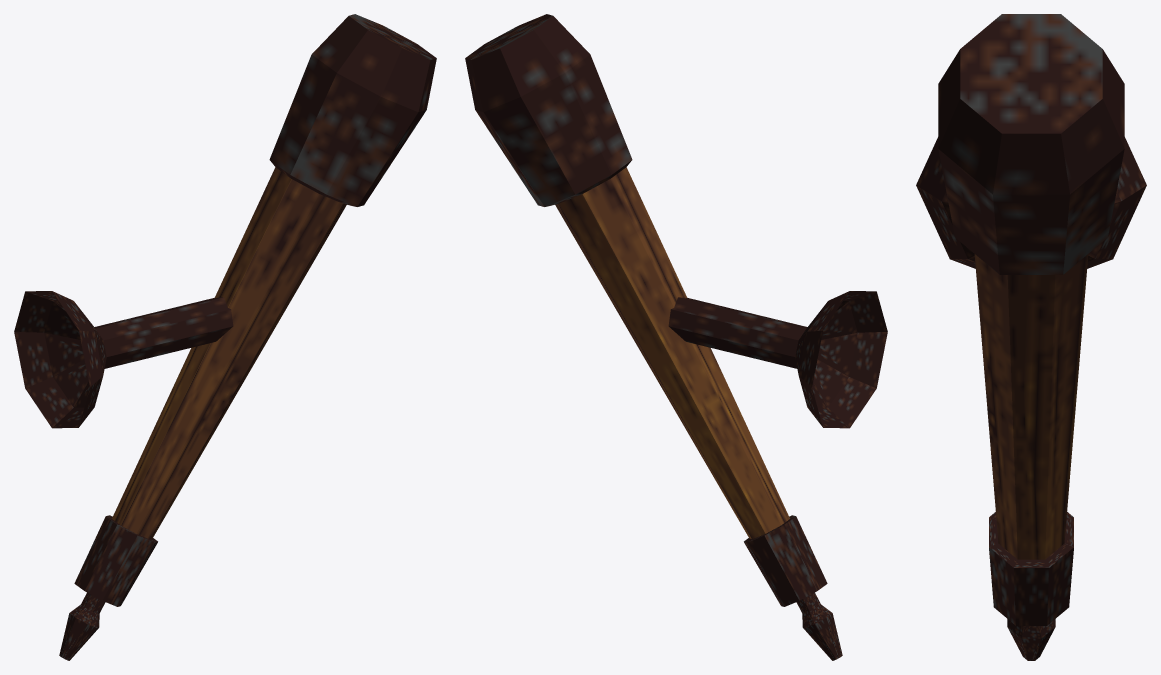
File: SM_Dungeon_Torch_Prison_Wall.fbx
The picture shows the model from 3 angles, left to right: view 1: azimuth 30°, elevation 25°; view 2: azimuth 150°, elevation 25°; view 3: azimuth 270°, elevation 25°; orthographic projection. The views are drawn at different scales.
Parts seen in each view (by area): view 1: SM_Dungeon_Torch_Wall; view 2: SM_Dungeon_Torch_Wall; view 3: SM_Dungeon_Torch_Wall.
Part boxes in pixels (x1,y1,x2,y2): SM_Dungeon_Torch_Wall: [14, 14, 436, 660]; SM_Dungeon_Torch_Wall: [465, 14, 887, 660]; SM_Dungeon_Torch_Wall: [916, 14, 1146, 660].
Size of the model in its own units: 40.94 by 59.05 by 14.34.
